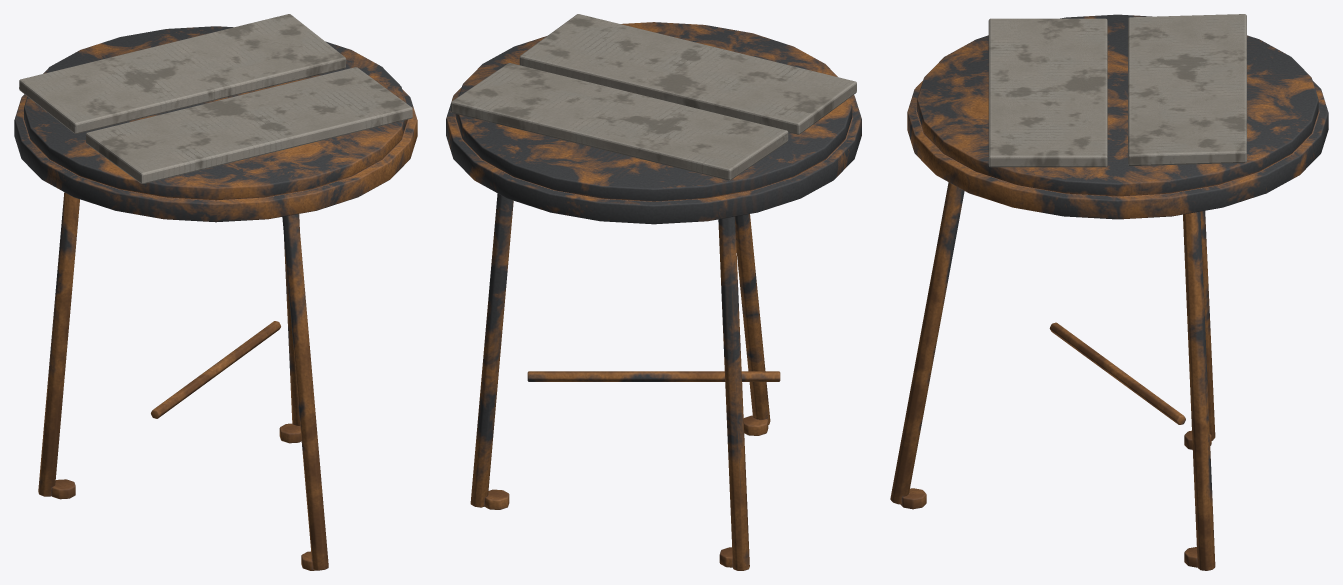
File: table_side.glb
3 views of the same model, side by side, from view 1: azimuth 30°, elevation 25°; view 2: azimuth 150°, elevation 25°; view 3: azimuth 270°, elevation 25° (orthographic). The views are drawn at different scales.
Parts seen in each view (by area): view 1: table_side_WearChairIronTbl, table_side_WearChairTimberTbl; view 2: table_side_WearChairIronTbl, table_side_WearChairTimberTbl; view 3: table_side_WearChairIronTbl, table_side_WearChairTimberTbl.
Boxes of the visible parts, x1=… form: table_side_WearChairIronTbl: x1=14, y1=26, x2=417, y2=570; table_side_WearChairTimberTbl: x1=19, y1=14, x2=412, y2=183; table_side_WearChairIronTbl: x1=446, y1=22, x2=861, y2=570; table_side_WearChairTimberTbl: x1=451, y1=14, x2=856, y2=180; table_side_WearChairIronTbl: x1=890, y1=14, x2=1328, y2=570; table_side_WearChairTimberTbl: x1=988, y1=14, x2=1246, y2=167.
Size of the model in its own units: 0.514 by 0.5672 by 0.5345.
Materials: 2 (2 with a texture image).
